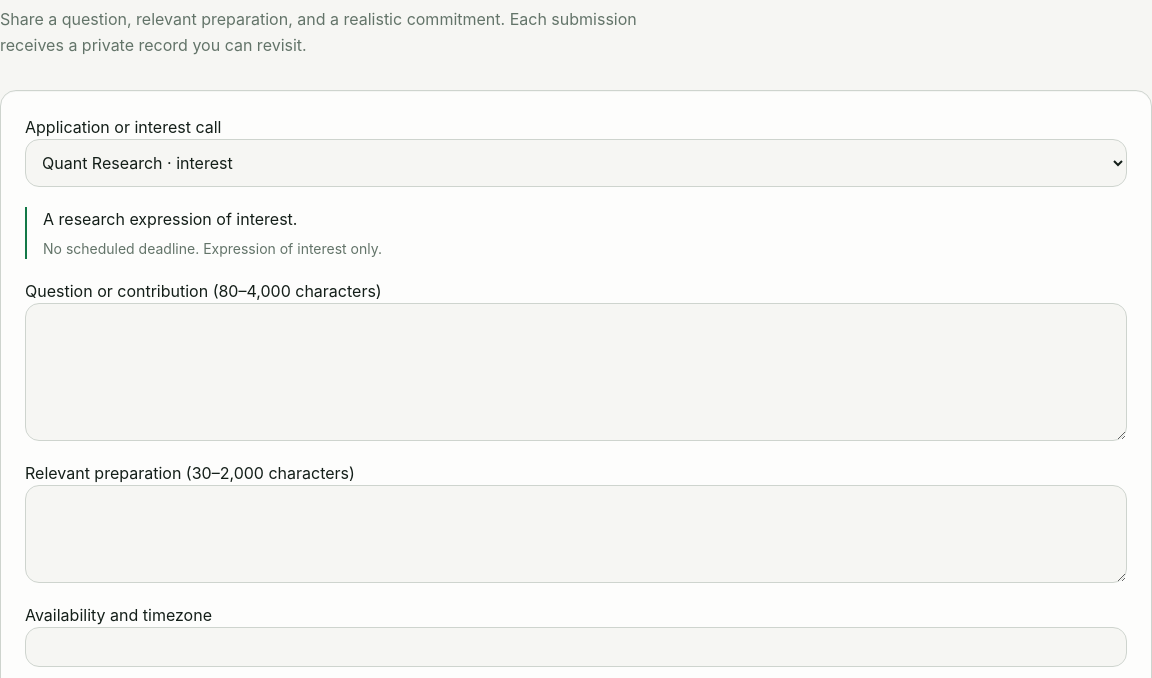
it: intake retry receipt identity › does not report unsent edits when the confirmed receipt matches the submitted answers
Type "Evaluate a chronological baseline with explicit leakage controls, uncertainty and transaction cost assumptions." into the text box labelled "Question or contribution (80–4,000 characters)" at (576, 372), box [25,303,1127,441]
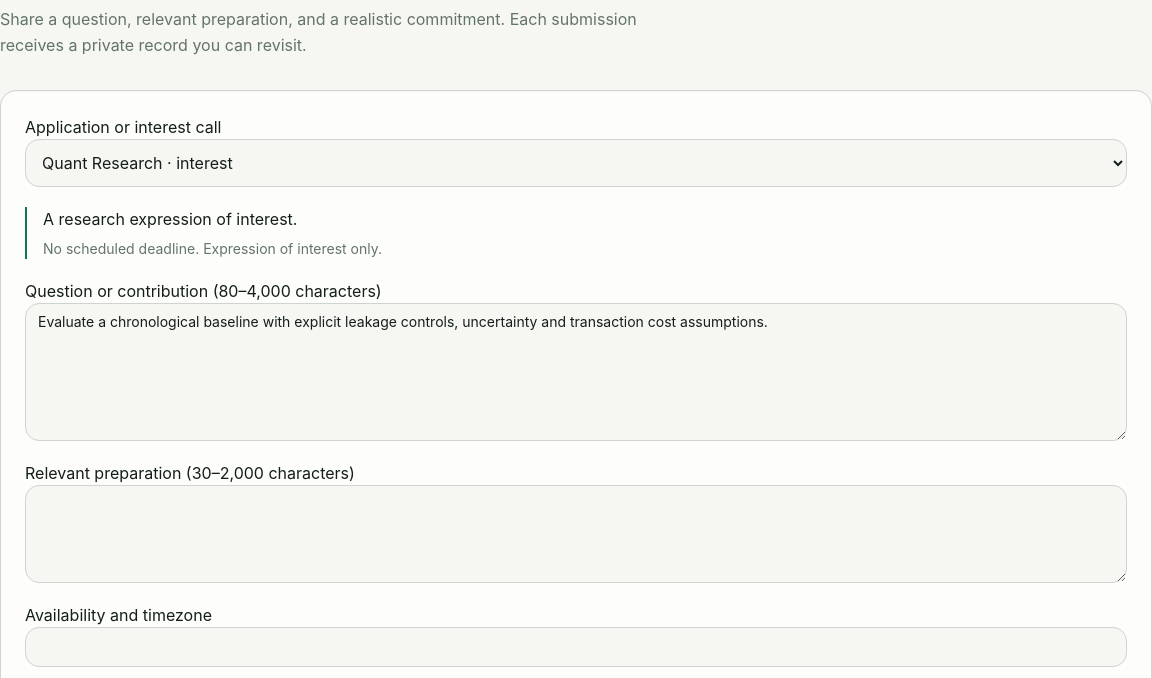
Type "Python, statistics and reproducible data analysis." into the text box labelled "Relevant preparation (30–2,000 characters)" at (576, 534), box [25,485,1127,583]
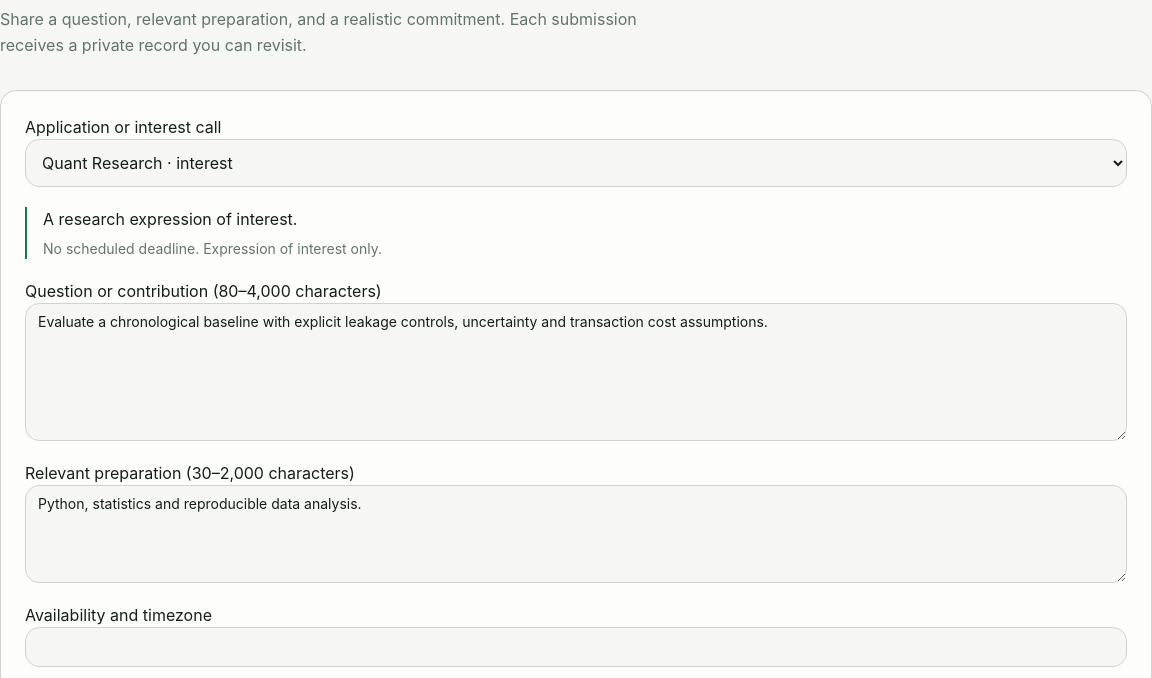
Type "4 hours, UTC" into the field labelled "Availability and timezone" at (576, 647), box [25,627,1127,667]
(page scrolled)
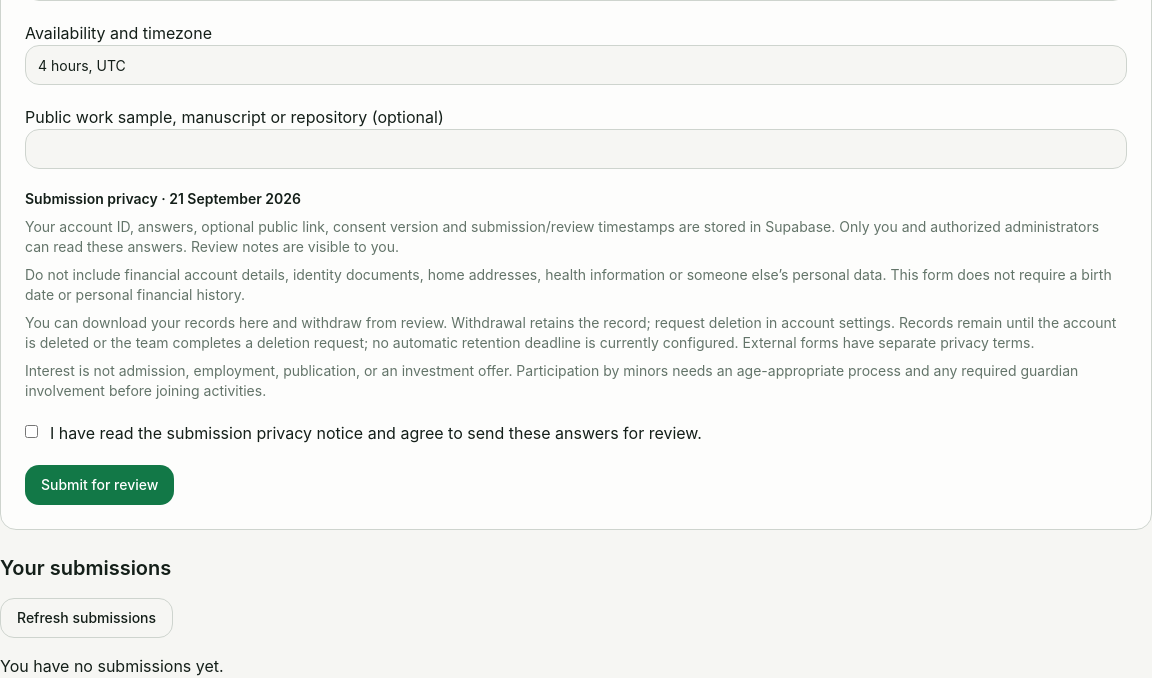
Click the checkbox at (32, 432), box [25,425,38,438]
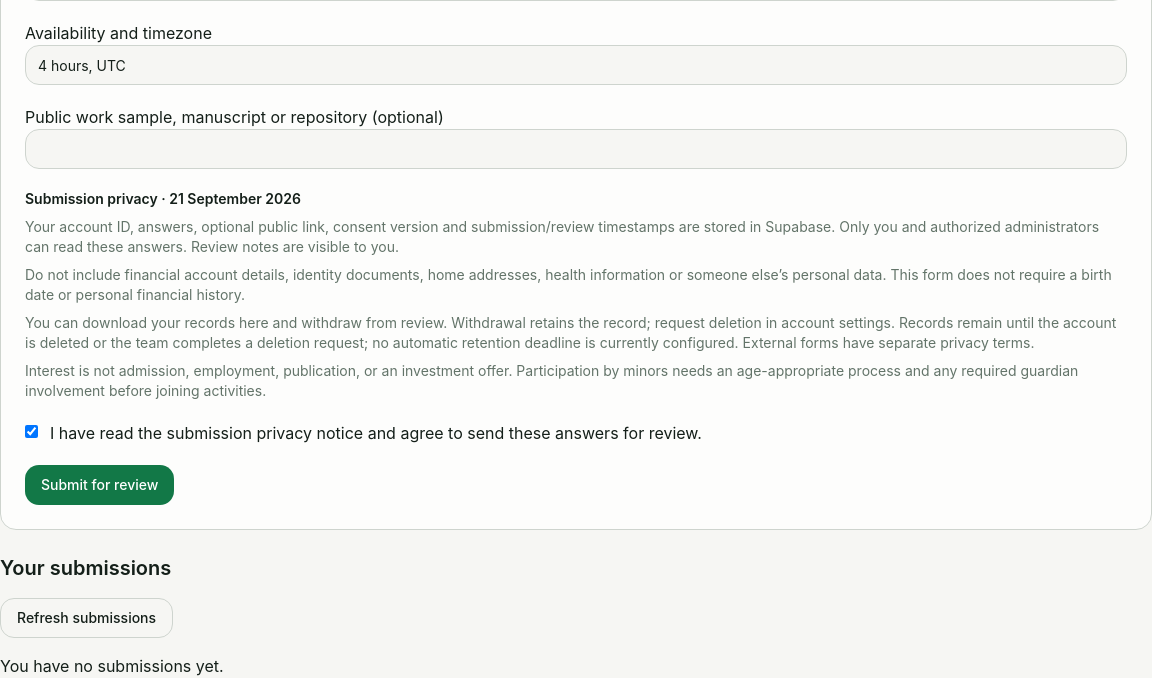
Click the button "Submit for review" at (100, 485), box [25,465,174,505]
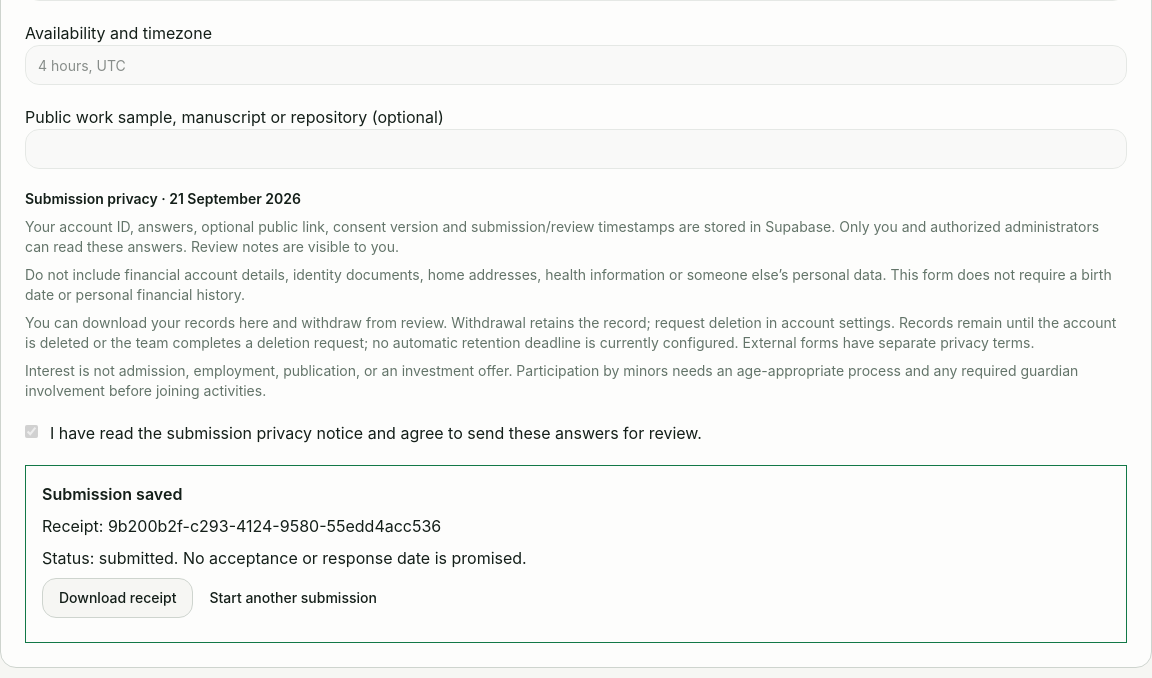
Expected: the heading "Submission saved" is shown, [42,484,182,504]
